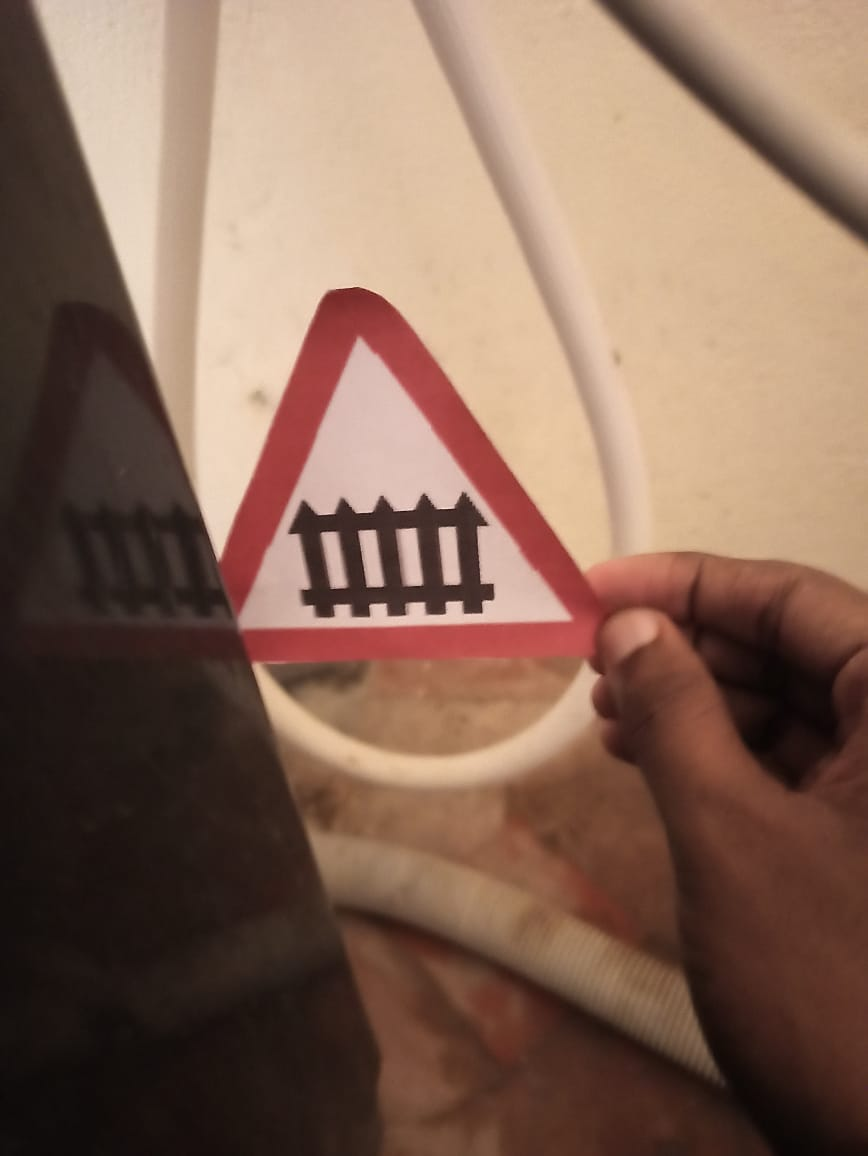GUARDED LEVEL CROSSING: (176, 292, 614, 706)
